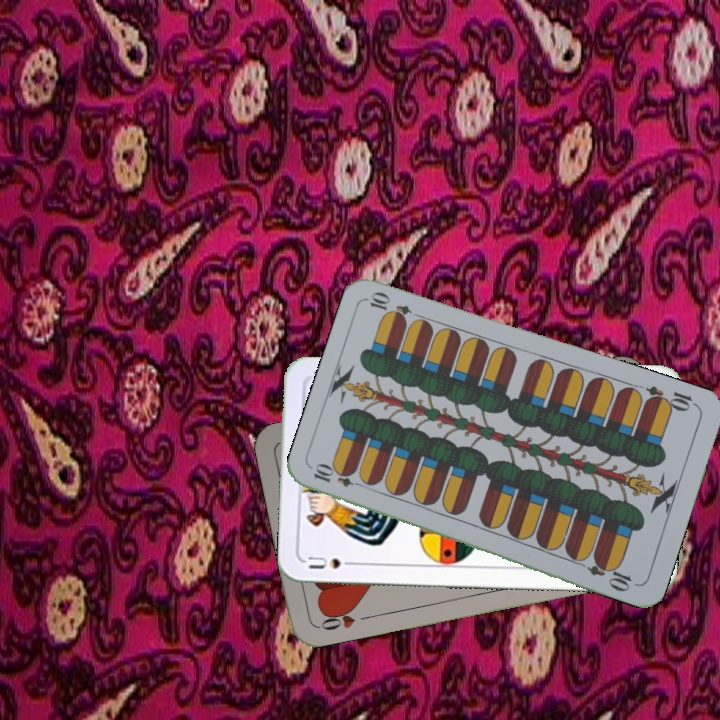E10: (641, 382, 700, 414), (309, 462, 368, 491)
HO: (315, 603, 374, 633)
SU: (303, 552, 361, 572)
